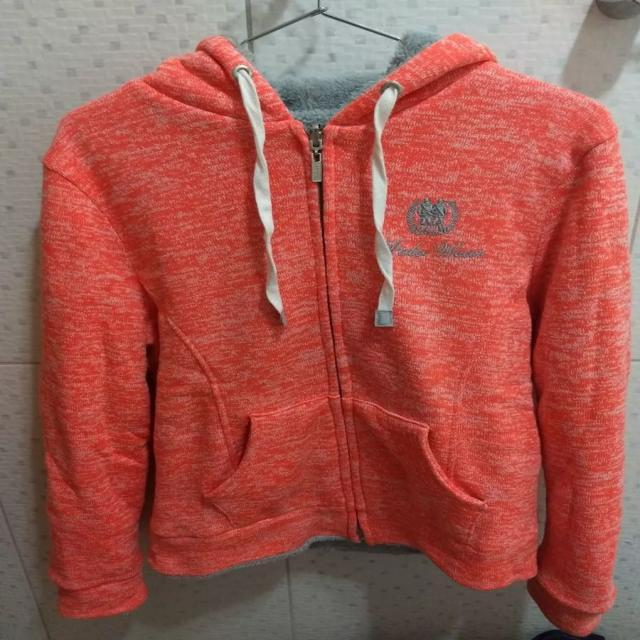sweater: (36, 31, 634, 640)
